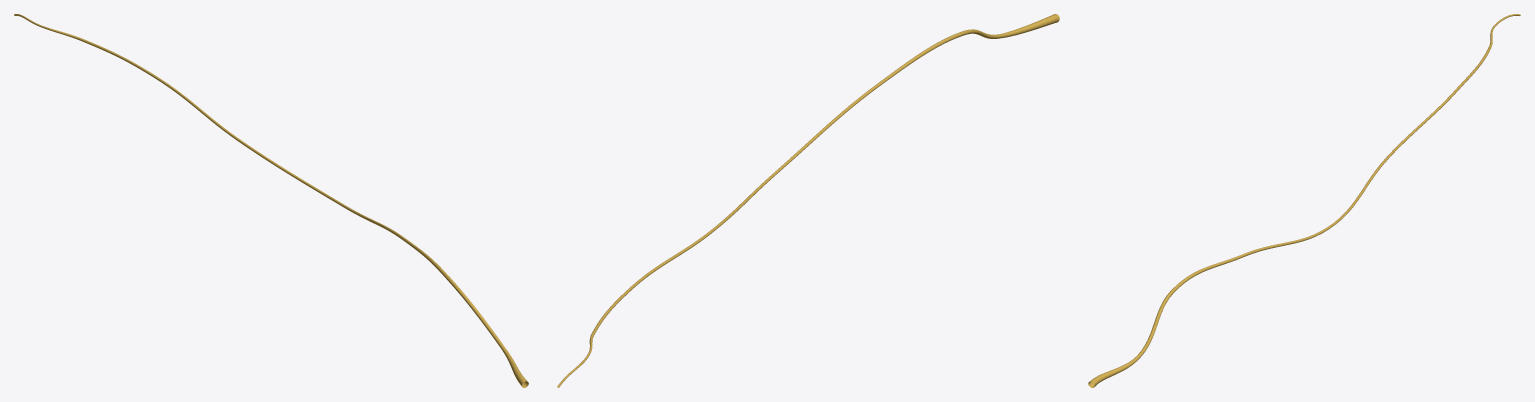
The picture shows the model from 3 angles, left to right: view 1: azimuth 30°, elevation 25°; view 2: azimuth 150°, elevation 25°; view 3: azimuth 330°, elevation 25°; orthographic projection. The views are drawn at different scales.
Parts seen in each view (by area): view 1: 左侧胫神经; view 2: 左侧胫神经; view 3: 左侧胫神经.
Part boxes in pixels (<box>): 左侧胫神经: <box>14,14,528,387</box>; 左侧胫神经: <box>557,14,1059,387</box>; 左侧胫神经: <box>1088,14,1520,387</box>.
Size of the model in its own units: 0.0586 by 0.0414 by 0.7116.
